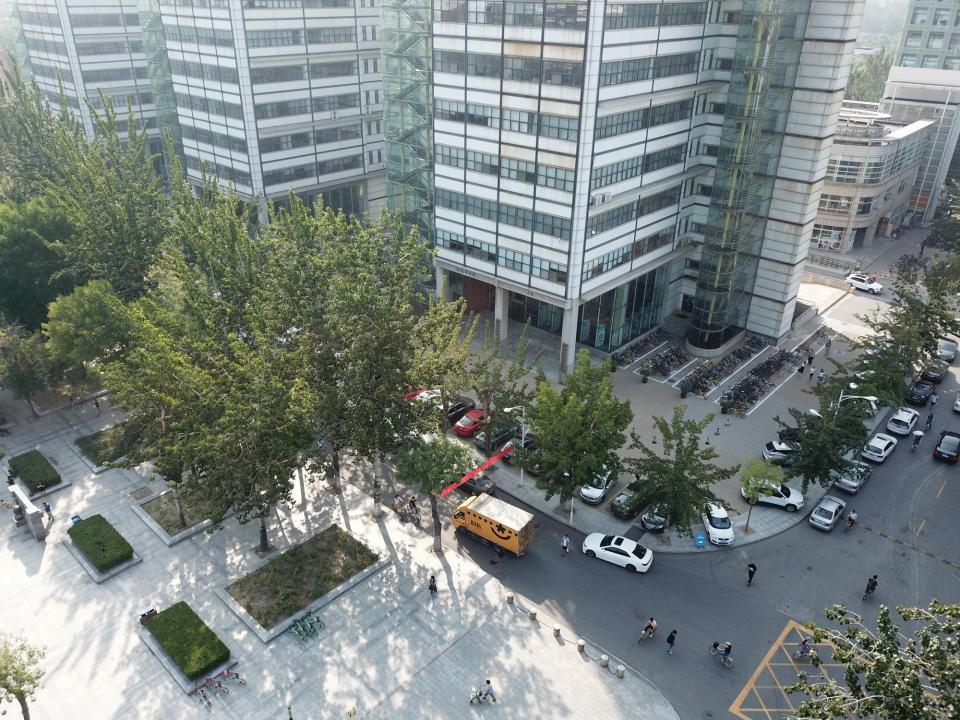car: (582, 527, 662, 574), (608, 474, 661, 521), (741, 476, 805, 514), (696, 491, 738, 547), (779, 424, 844, 457), (578, 462, 623, 509), (761, 438, 826, 470), (524, 440, 577, 477), (836, 377, 897, 408), (413, 395, 475, 425), (642, 489, 683, 532), (392, 387, 452, 416), (452, 402, 502, 436), (807, 494, 848, 533), (825, 391, 879, 420), (474, 418, 520, 452), (374, 379, 432, 405), (834, 460, 876, 494), (499, 432, 541, 464), (864, 343, 918, 367), (858, 354, 909, 378), (860, 432, 898, 464), (853, 369, 902, 393), (885, 406, 921, 436), (845, 271, 887, 295), (931, 429, 960, 463), (904, 378, 934, 407), (920, 357, 950, 383), (933, 336, 960, 363)
truck: (449, 490, 536, 556)
